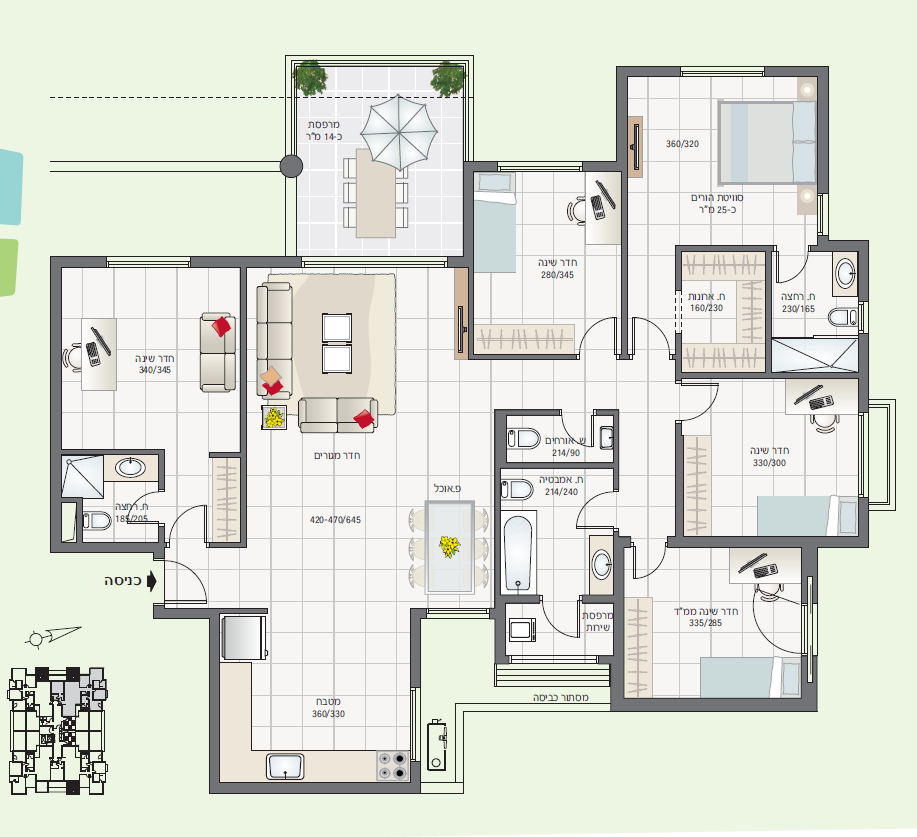door: (168, 498, 208, 546), (580, 307, 620, 355), (630, 305, 670, 353), (687, 381, 724, 426), (575, 489, 610, 532), (546, 606, 581, 649), (773, 252, 816, 286), (631, 550, 667, 585)
wall: (49, 256, 63, 550), (612, 537, 626, 709), (208, 618, 221, 791), (817, 66, 829, 196), (674, 373, 869, 379), (463, 161, 473, 267), (622, 162, 628, 302), (675, 245, 764, 252), (480, 354, 574, 360), (468, 275, 473, 359)
window: (301, 261, 449, 270), (107, 260, 191, 268), (496, 166, 584, 173), (681, 71, 766, 77)
